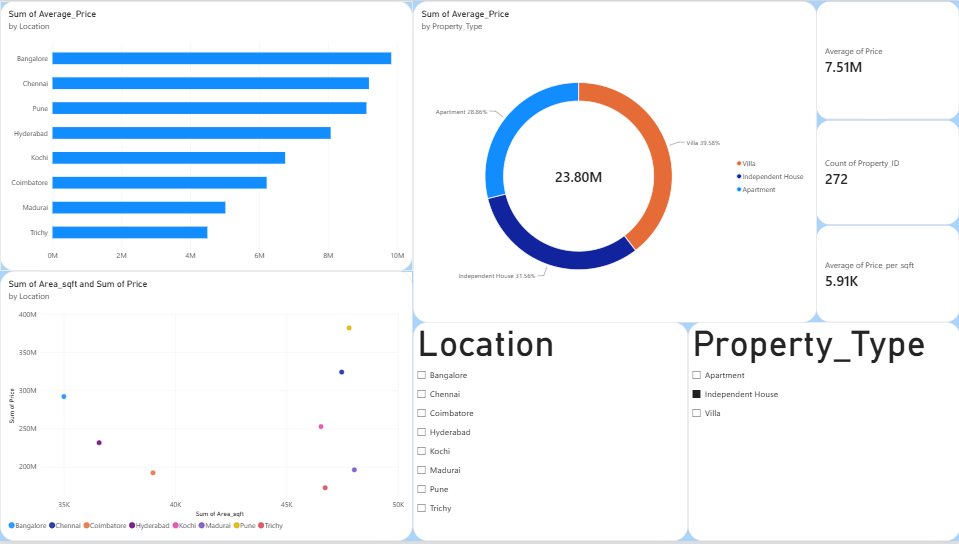

This screenshot's page, from the dashboard's own definition file:
{"tool":"powerbi","page":{"name":"Page 1","canvas":[1920,1080],"ordinal":0},"visuals":[{"type":"clusteredBarChart","fields":{"Category":["SQL_AvgPrice_Location.Location"],"Y":["Sum(SQL_AvgPrice_Location.Average_Price)"]},"box":[0,0,825,540],"z":0},{"type":"donutChart","fields":{"Category":["SQL_PropertyType_Analysis.Property_Type"],"Y":["Sum(SQL_PropertyType_Analysis.Average_Price)"]},"box":[825,0,807.5,642.5],"z":3},{"type":"scatterChart","fields":{"Series":["PropertyData.Location"],"X":["Sum(PropertyData.Area_sqft)"],"Y":["Sum(PropertyData.Price)"]},"box":[0,540,825,540],"z":4},{"type":"cardVisual","fields":{"Data":["Avg(PropertyData.Price)"]},"box":[1632.5,0,287.5,237.5],"z":5},{"type":"cardVisual","fields":{"Data":["Avg(PropertyData.Price_per_sqft)"]},"box":[1632.5,447.5,287.5,195],"z":6},{"type":"cardVisual","fields":{"Data":["Count(PropertyData.Property_ID)"]},"box":[1632.5,237.5,287.5,210],"z":7},{"type":"slicer","fields":{"Values":["PropertyData.Property_Type"]},"box":[1375,642.5,545,437.5],"z":9},{"type":"slicer","fields":{"Values":["PropertyData.Location"]},"box":[825,642.5,550,437.5],"z":10}]}

Visuals, with their boxes in screenshot pixels (x1, y1, x2, y2), scaled from the page's 1920x1080 canvas onto the 959x544 screenshot:
clusteredBarChart - SQL_AvgPrice_Location.Location x Sum(SQL_AvgPrice_Location.Average_Price): <region>0, 0, 412, 272</region>
donutChart - SQL_PropertyType_Analysis.Property_Type x Sum(SQL_PropertyType_Analysis.Average_Price): <region>412, 0, 815, 324</region>
scatterChart - PropertyData.Location x Sum(PropertyData.Area_sqft): <region>0, 272, 412, 543</region>
cardVisual - Avg(PropertyData.Price): <region>815, 0, 958, 120</region>
cardVisual - Avg(PropertyData.Price_per_sqft): <region>815, 225, 958, 324</region>
cardVisual - Count(PropertyData.Property_ID): <region>815, 120, 958, 225</region>
slicer - PropertyData.Property_Type: <region>687, 324, 958, 543</region>
slicer - PropertyData.Location: <region>412, 324, 687, 543</region>
